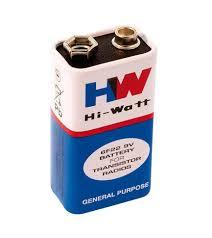9V: (44, 25, 160, 218)
